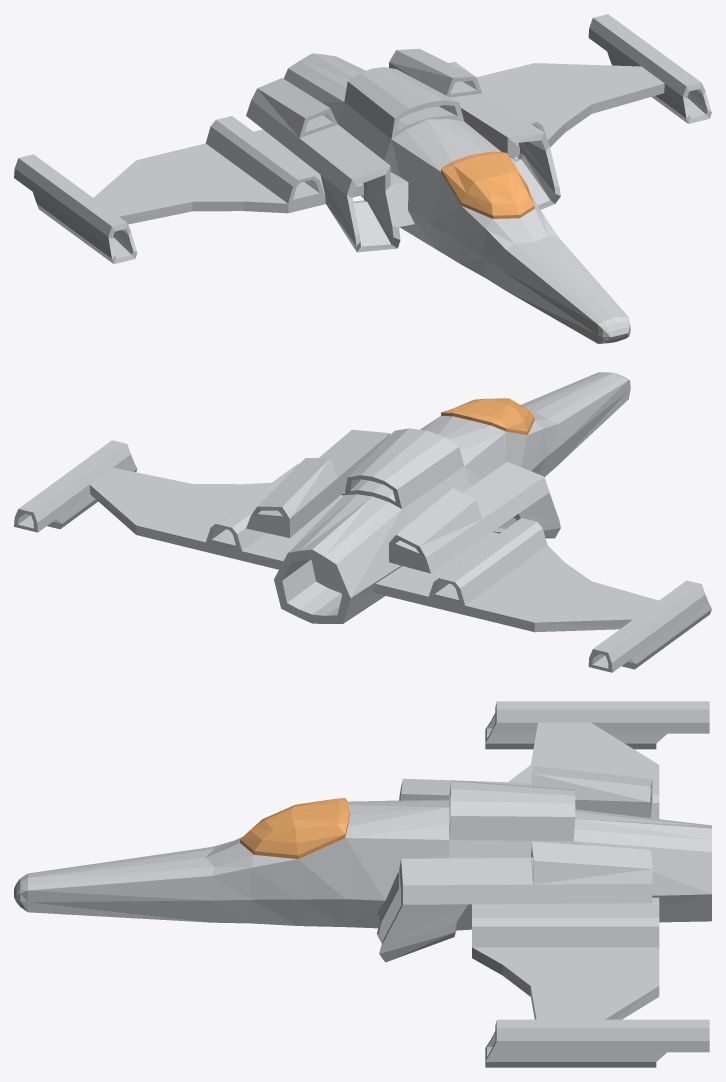
Rendered from ship3.glb.
3 renders of one model, top to bottom at view 1: azimuth 30°, elevation 25°; view 2: azimuth 150°, elevation 25°; view 3: azimuth 270°, elevation 25°, orthographic. The views are drawn at different scales.
Parts seen in each view (by area): view 1: ship; view 2: ship; view 3: ship.
Boxes of the visible parts, left/top/right/bottom form: ship: left=14, top=14, right=711, bottom=343; ship: left=14, top=372, right=711, bottom=672; ship: left=14, top=701, right=711, bottom=1067.
Bounding box in the file's own units: 10.38 × 1.86 × 9.21.
